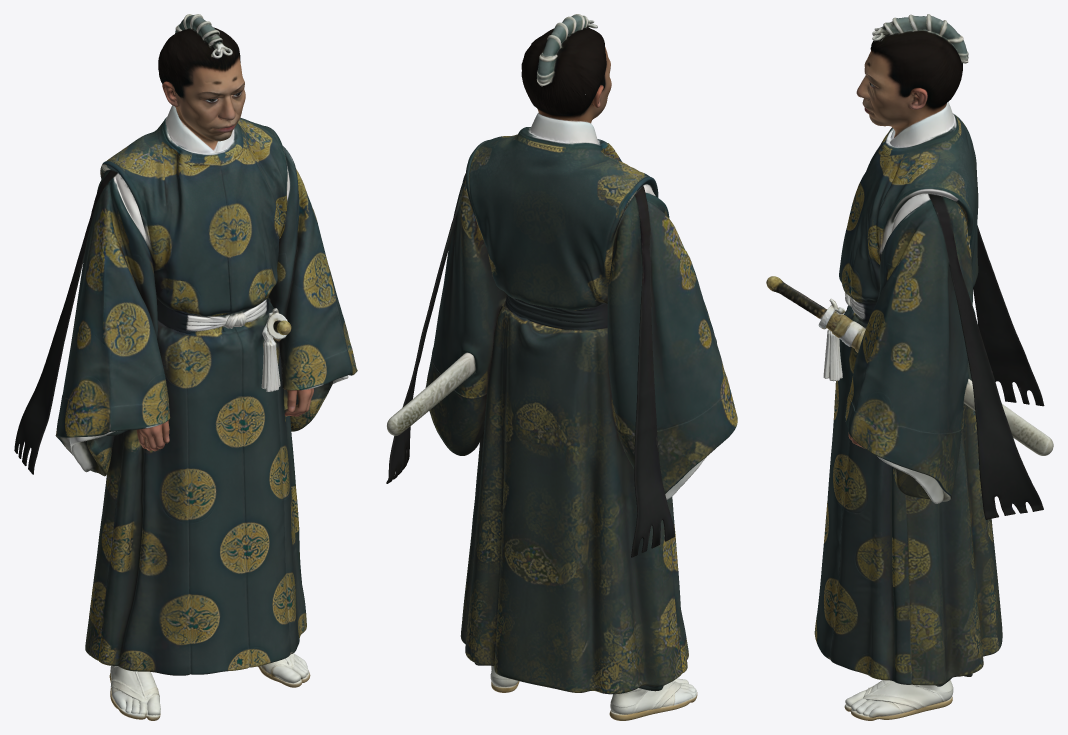
Rendered from kinosaki-sanmi-original.glb.
3 views of the same model, side by side, from view 1: azimuth 30°, elevation 25°; view 2: azimuth 150°, elevation 25°; view 3: azimuth 270°, elevation 25° (orthographic). The views are drawn at different scales.
Parts seen in each view (by area): view 1: tripo_node_3e42887a-04cf-4ccb-b988-30219e61424b; view 2: tripo_node_3e42887a-04cf-4ccb-b988-30219e61424b; view 3: tripo_node_3e42887a-04cf-4ccb-b988-30219e61424b.
Boxes of the visible parts, x1,y1,x2,y2 form: tripo_node_3e42887a-04cf-4ccb-b988-30219e61424b: [14, 14, 357, 720]; tripo_node_3e42887a-04cf-4ccb-b988-30219e61424b: [386, 14, 737, 720]; tripo_node_3e42887a-04cf-4ccb-b988-30219e61424b: [766, 14, 1053, 720].
Bounding box in the file's own units: 0.4471 × 0.9798 × 0.3829.
1 material, 1 textured.
